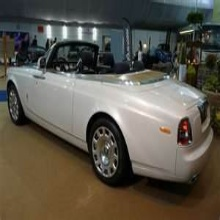no damage: (5, 39, 214, 188)
